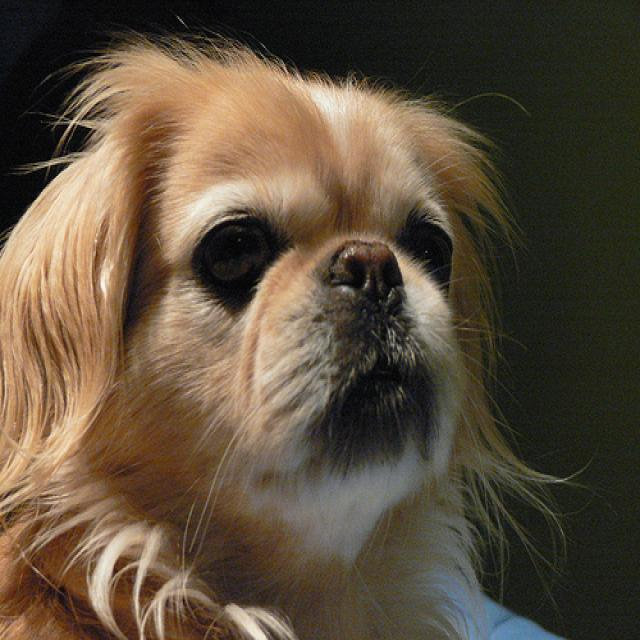dog-japanese_chin: (1, 22, 617, 637)
